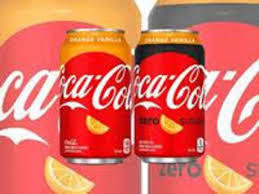coke-can-orange: (57, 25, 135, 167), (139, 26, 204, 160)
